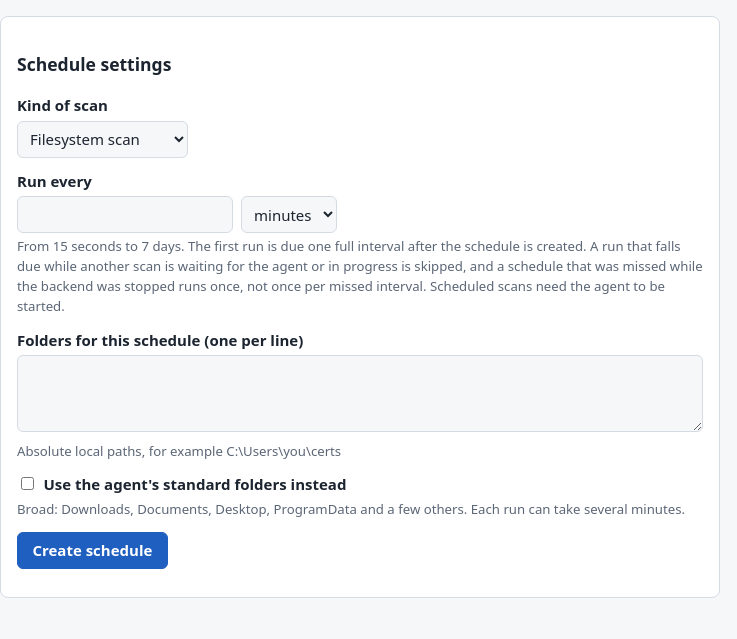
Test: the interval › refuses 8 days
Type "C:\\certs" into the text box labelled "Folders for this schedule (one per line)" at point(360, 394), box 17,355 -> 703,432
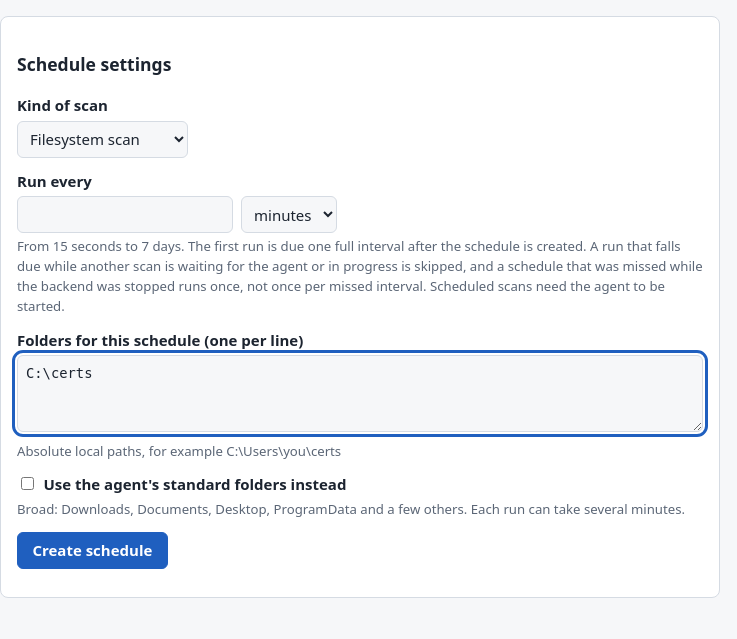
Type "8" into the field labelled "Run every" at point(125, 215), box 17,196 -> 233,234
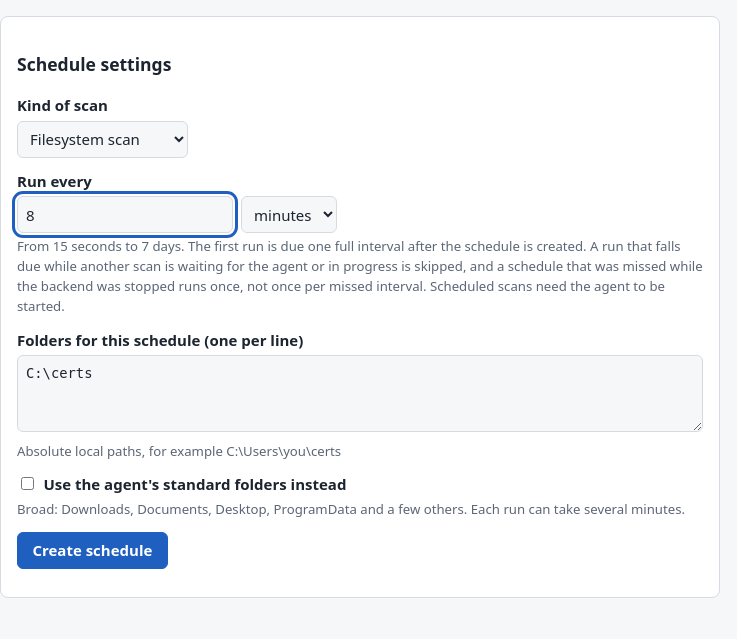
Select "days" in the dropdown named "Interval unit" at point(289, 215), box 241,196 -> 337,233
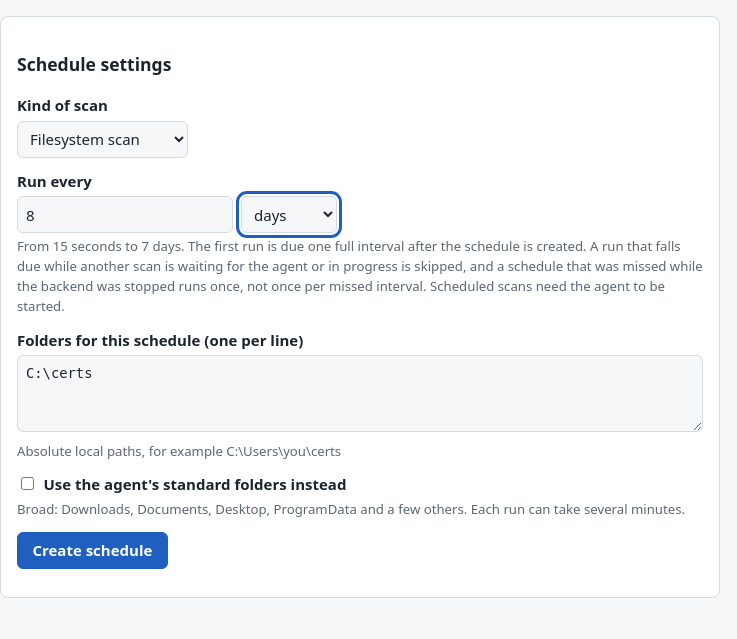
Click the button "Create schedule" at point(92, 550), box 17,532 -> 168,569
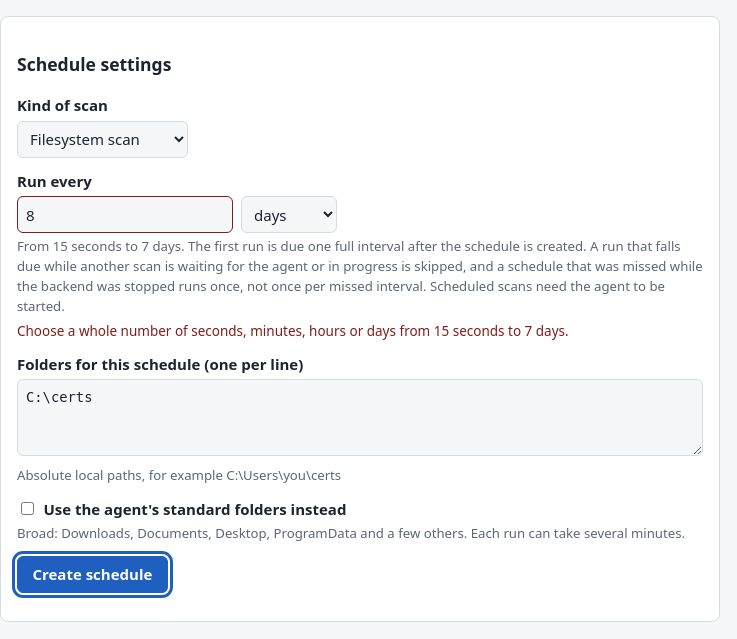
Expected: the text "from 15 seconds to 7 days" is shown, 17,322 -> 569,340
